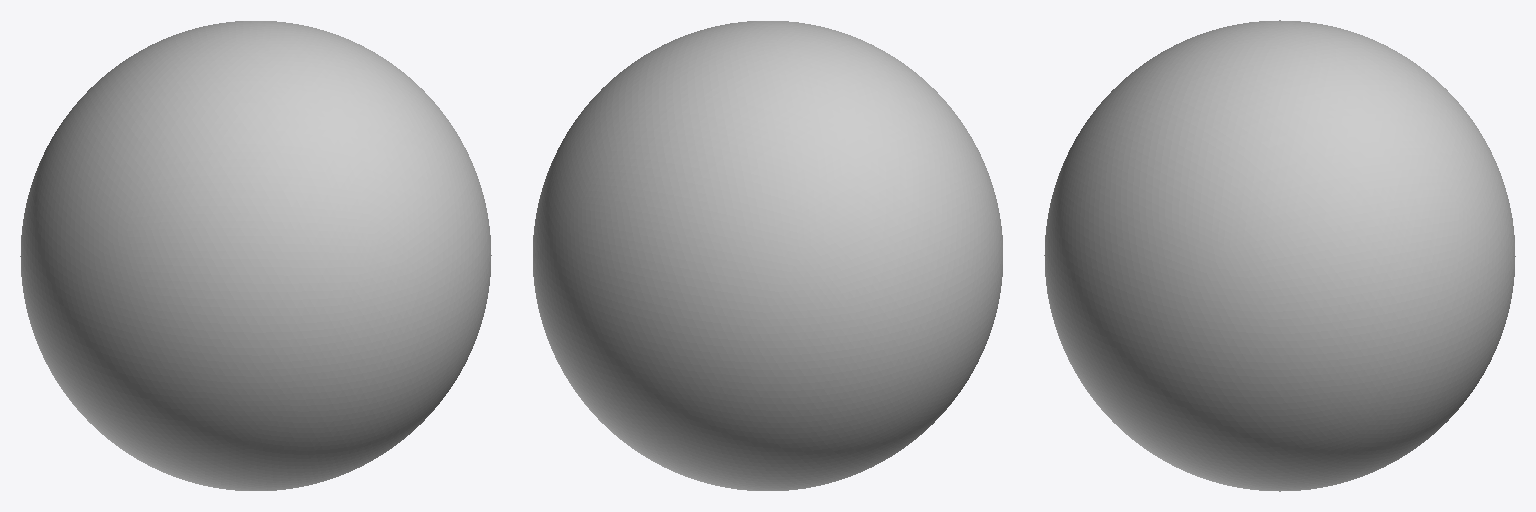
The model's file is Mercurio.obj.
3 views of the same model, side by side, from view 1: azimuth 30°, elevation 25°; view 2: azimuth 150°, elevation 25°; view 3: azimuth 270°, elevation 25° (orthographic).
Parts seen in each view (by area): view 1: Mercury; view 2: Mercury; view 3: Mercury.
Part boxes in pixels (x1,y1,x2,y2): Mercury: (20, 21, 491, 490); Mercury: (533, 21, 1002, 490); Mercury: (1044, 20, 1515, 491).
Bounding box in the file's own units: 1.09 × 1.09 × 1.09.